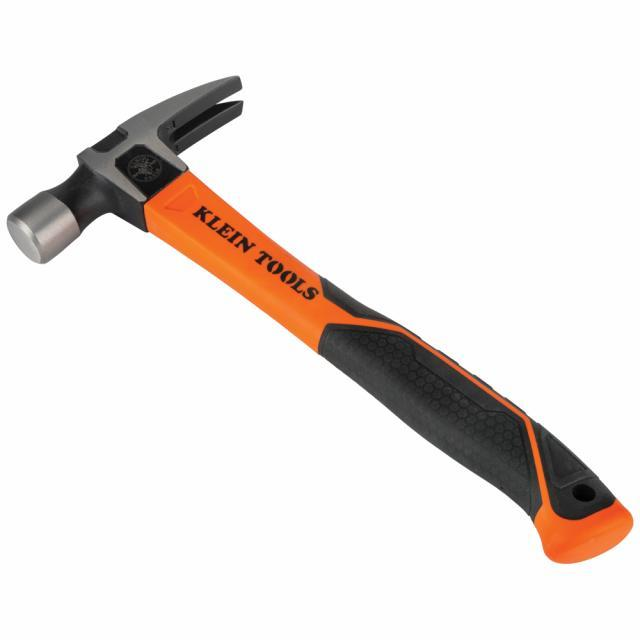hammer: (0, 71, 640, 570)
